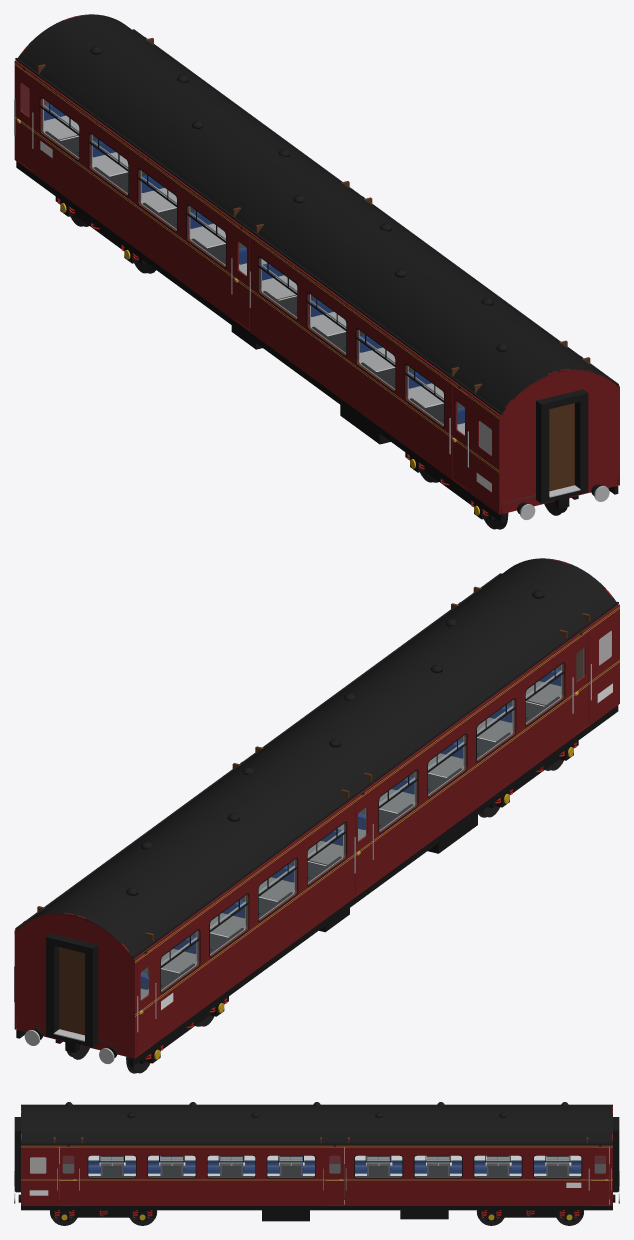
Rendered from coach_lod0.glb.
3 renders of one model, top to bottom at view 1: azimuth 30°, elevation 25°; view 2: azimuth 150°, elevation 25°; view 3: azimuth 270°, elevation 25°, orthographic. The views are drawn at different scales.
Visible parts, largest first — view 1: coach_static_roof_black, coach_static_coach_maroon, coach_static_glass, coach_static_rubber, coach_static_underframe, coach_int_decal_seatfabric, coach_int_table_top, coach_static_lining_gold, gw_door_A_wood_panel, coach_int_wood_panel, coach_int_seat_vinyl, coach_int_steel (+4 smaller); view 2: coach_static_roof_black, coach_static_coach_maroon, coach_static_glass, coach_static_rubber, coach_static_underframe, coach_int_decal_seatfabric, coach_int_table_top, coach_static_lining_gold, coach_int_wood_panel, gw_door_B_wood_panel, coach_int_seat_vinyl, coach_int_steel (+4 smaller); view 3: coach_static_roof_black, coach_static_coach_maroon, coach_static_glass, coach_static_underframe, coach_static_rubber, coach_int_seat_vinyl, coach_int_table_top, coach_static_lining_gold, coach_int_decal_seatfabric, coach_int_steel, coach_int_carpet, coach_door_C_L_coach_maroon (+9 smaller).
Part boxes in pixels (<box>): coach_static_roof_black: <box>15,14,618,415</box>; coach_static_coach_maroon: <box>14,14,619,514</box>; coach_static_glass: <box>41,98,443,426</box>; coach_static_rubber: <box>39,96,588,503</box>; coach_static_underframe: <box>16,161,618,522</box>; coach_int_decal_seatfabric: <box>44,115,464,434</box>; coach_int_table_top: <box>45,131,463,424</box>; coach_static_lining_gold: <box>14,62,499,472</box>; gw_door_A_wood_panel: <box>549,403,574,490</box>; coach_int_wood_panel: <box>17,38,590,453</box>; coach_int_seat_vinyl: <box>44,104,464,424</box>; coach_int_steel: <box>43,99,443,425</box>; coach_static_roof_black: <box>15,558,618,958</box>; coach_static_coach_maroon: <box>14,558,619,1058</box>; coach_static_glass: <box>161,664,563,991</box>; coach_static_rubber: <box>46,662,565,1047</box>; coach_static_underframe: <box>16,705,618,1066</box>; coach_int_decal_seatfabric: <box>140,681,561,999</box>; coach_int_table_top: <box>141,696,559,990</box>; coach_static_lining_gold: <box>14,606,619,1016</box>; coach_int_wood_panel: <box>37,586,616,991</box>; gw_door_B_wood_panel: <box>59,947,84,1034</box>; coach_int_seat_vinyl: <box>140,669,561,989</box>; coach_int_steel: <box>161,648,583,990</box>; coach_static_roof_black: <box>21,1102,612,1144</box>; coach_static_coach_maroon: <box>21,1106,612,1205</box>; coach_static_glass: <box>88,1156,580,1177</box>; coach_static_underframe: <box>16,1191,617,1221</box>; coach_static_rubber: <box>14,1117,619,1191</box>; coach_int_seat_vinyl: <box>88,1155,581,1173</box>; coach_int_table_top: <box>89,1155,580,1176</box>; coach_static_lining_gold: <box>21,1146,612,1180</box>; coach_int_decal_seatfabric: <box>88,1155,581,1175</box>; coach_int_steel: <box>88,1157,581,1176</box>; coach_int_carpet: <box>59,1164,609,1198</box>; coach_door_C_L_coach_maroon: <box>325,1147,343,1204</box>.
Bounding box in the file's own units: 2.9 × 3.99 × 20.12.
